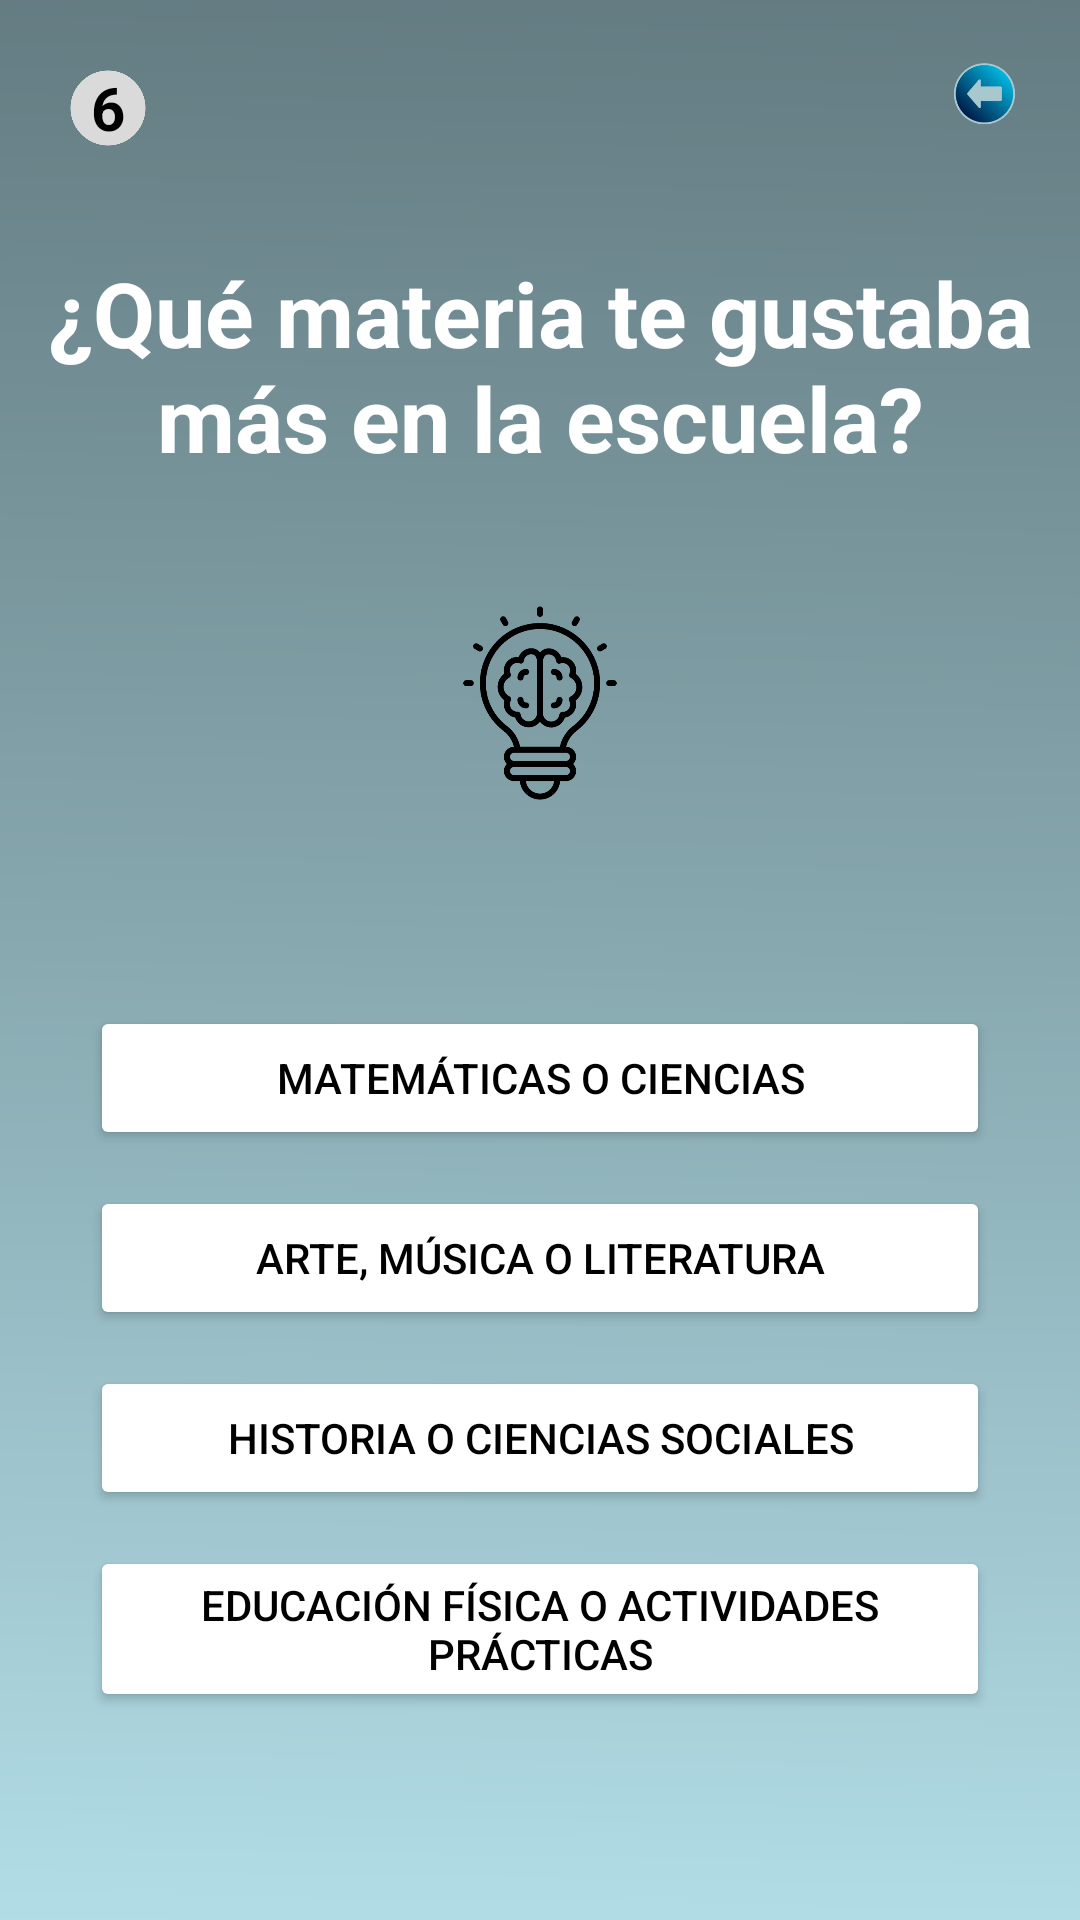

Icon click points for this 1080×1920 phone screenshot, format (x=x, y=y):
idea: (x=540, y=703)
retroceso: (x=984, y=93)
